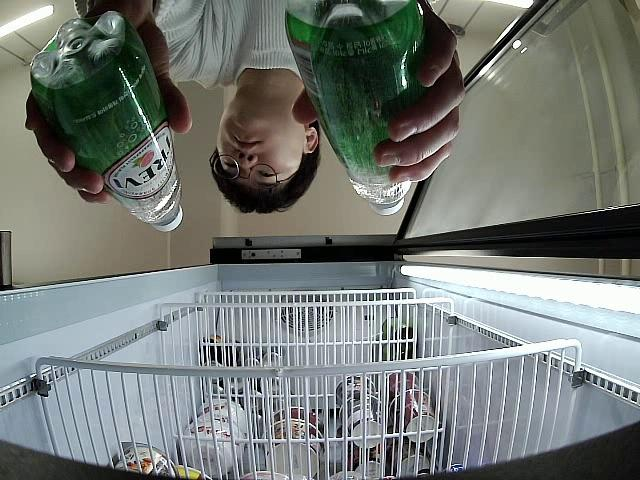00_hand: (24, 0, 192, 203), (292, 0, 463, 183)
19_17cha: (30, 13, 184, 235), (284, 0, 413, 214)
